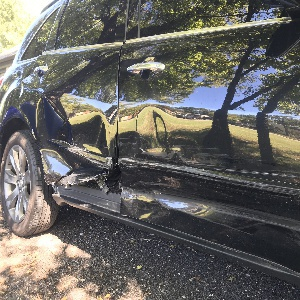door: (44, 142, 139, 203)
